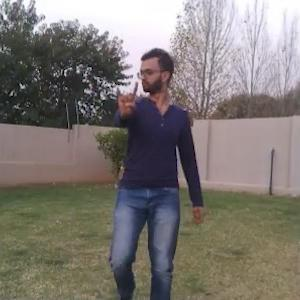takeoff-hand: (110, 78, 143, 124)
